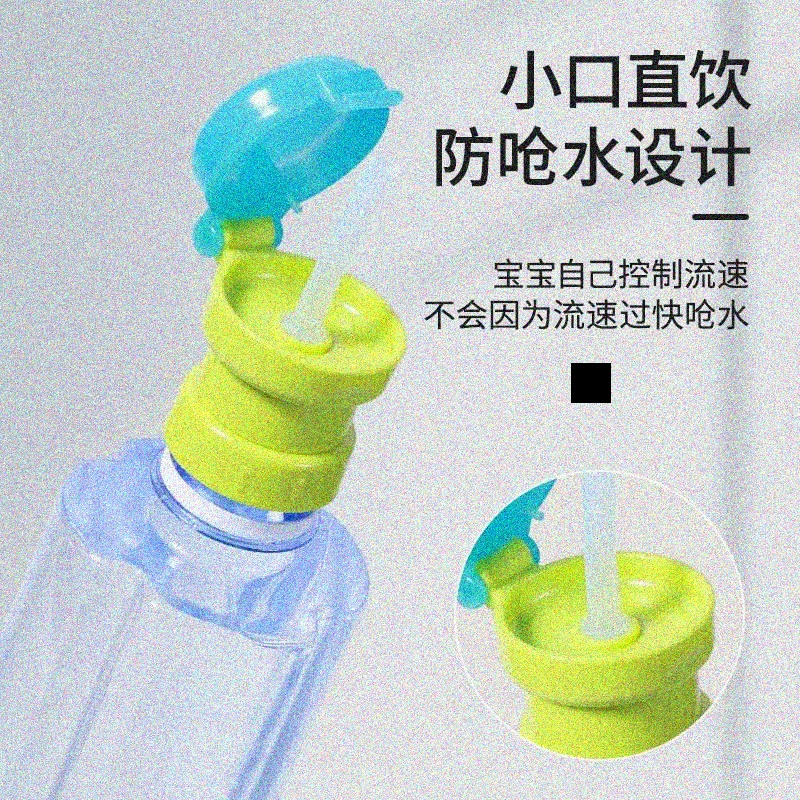bottle: (1, 374, 403, 800)
